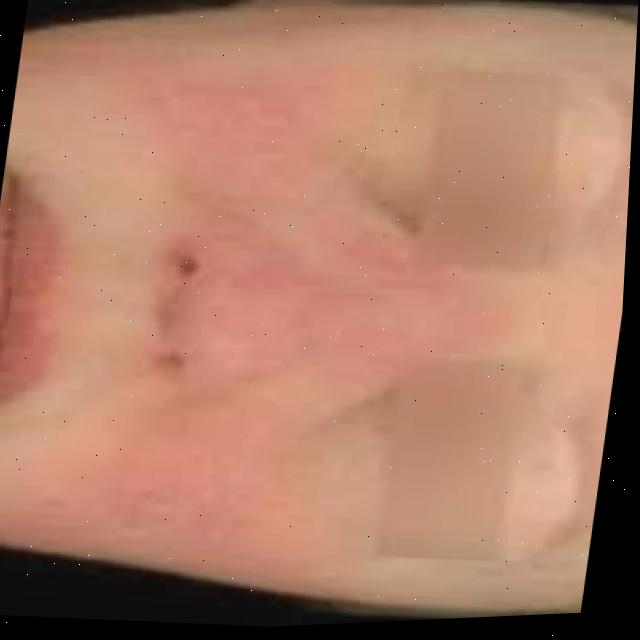Rosacea: (52, 37, 460, 566)
